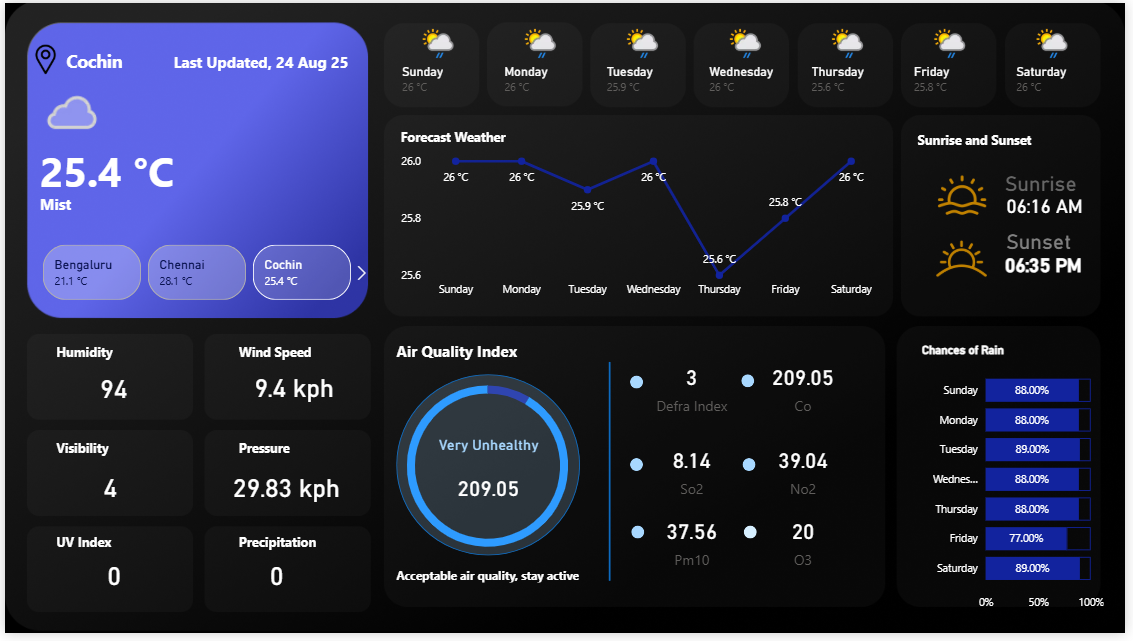

The dashboard page shown, as its layout file describes it:
{"tool":"powerbi","page":{"name":"Page 1","canvas":[1280,720],"ordinal":0},"visuals":[{"type":"donutChart","fields":{"Y":["_Measures.Left_value_Co","Sum(Current.current.air_quality.co)"]},"box":[431.9,403.7,240.5,250.3],"z":0},{"type":"shape","box":[447.1,424.3,210,207.1],"z":1000},{"type":"advancedSlicerVisual","fields":{"Values":["Locations.location.name"]},"box":[18.9,272.1,404.4,73.7],"z":2000},{"type":"shape","box":[39.7,130.4,215.4,122.8],"z":3000},{"type":"shape","box":[39.7,206,215.4,47.2],"z":4000},{"type":"shape","box":[69.9,47.2,215.4,37.8],"z":5000},{"type":"shape","box":[177.6,34,215.4,66.1],"z":6000},{"type":"image","box":[0,43.5,92.6,43.5],"z":7000},{"type":"cardVisual","fields":{"Data":["Min(Current.current.condition.icon)"]},"box":[15.1,68,109.6,88.8],"z":8000},{"type":"shape","box":[58.3,371.7,88.3,53.3],"z":9000},{"type":"shape","box":[266.7,371.7,108.3,53.3],"z":10000},{"type":"shape","box":[266.7,481.7,88.3,53.3],"z":11000},{"type":"shape","box":[266.7,588.3,126.7,53.3],"z":12000},{"type":"shape","box":[58.3,481.7,88.3,53.3],"z":13000},{"type":"shape","box":[58.3,588.3,88.3,53.3],"z":14000},{"type":"card","fields":{"Values":["Sum(Current.current.humidity)"]},"box":[75.9,390.2,97.5,100.3],"z":15000},{"type":"card","fields":{"Values":["_Measures.Wind_Speed"]},"box":[266.7,388.3,126.7,100],"z":16000},{"type":"card","fields":{"Values":["_Measures.Pressure"]},"box":[240,503.3,163.3,100],"z":17000},{"type":"card","fields":{"Values":["Sum(Current.current.precip_in)"]},"box":[261.7,603.3,98.3,100],"z":18000},{"type":"card","fields":{"Values":["Sum(Current.current.uv)"]},"box":[75,603.3,98.3,100],"z":19000},{"type":"card","fields":{"Values":["Sum(Current.current.vis_km)"]},"box":[71.7,503.3,98.3,100],"z":20000},{"type":"advancedSlicerVisual","fields":{"Values":["Forecast.Day_Name"]},"box":[435,16.7,826.7,101.7],"z":21000},{"type":"lineChart","title":"Forecast Weather ","fields":{"Y":["Sum(Forecast.forecast.forecastday.day.avgtemp_c)"],"Category":["Forecast.Day_Name"]},"box":[446.6,143.4,555.3,202.7],"z":22000},{"type":"shape","box":[1043.2,130.1,161.2,52.8],"z":23000},{"type":"shape","box":[1144.8,205.9,117.9,52.8],"z":24000},{"type":"shape","box":[1143.4,272.3,117.9,52.8],"z":25000},{"type":"shape","box":[1143.4,180.2,117.9,52.8],"z":26000},{"type":"shape","box":[1144.8,245.2,117.9,52.8],"z":27000},{"type":"hundredPercentStackedBarChart","title":"Chances of Rain","fields":{"Category":["Forecast.Day_Name"],"Y":["Sum(Forecast.forecast.forecastday.day.daily_chance_of_rain)","_Measures.Left_Value_Rain"]},"box":[1043.2,388.8,218.1,314.3],"z":28000},{"type":"shape","box":[447.1,371.2,161.2,52.8],"z":29000},{"type":"card","fields":{"Values":["Sum(Current.current.air_quality.co)"]},"box":[848.1,388.8,127.4,100.3],"z":30000},{"type":"card","fields":{"Values":["Sum(Current.current.air_quality.no2)"]},"box":[848.1,482.3,127.4,100.3],"z":31000},{"type":"card","fields":{"Values":["Sum(Current.current.air_quality.o3)"]},"box":[848.1,564.9,127.4,100.3],"z":32000},{"type":"card","fields":{"Values":["Sum(Current.current.air_quality.gb-defra-index)"]},"box":[720.7,388.8,127.4,100.3],"z":33000},{"type":"card","fields":{"Values":["Sum(Current.current.air_quality.so2)"]},"box":[720.7,482.3,127.4,100.3],"z":34000},{"type":"card","fields":{"Values":["Sum(Current.current.air_quality.pm10)"]},"box":[720.7,564.9,127.4,100.3],"z":35000},{"type":"shape","box":[714,425.4,15,15],"z":36000},{"type":"shape","box":[714,520.2,14.9,14.9],"z":37000},{"type":"shape","box":[715.3,597.5,14.9,14.9],"z":38000},{"type":"shape","box":[841.3,424,14.9,14.9],"z":39000},{"type":"shape","box":[842.7,520.2,14.9,14.9],"z":40000},{"type":"shape","box":[844,597.5,14.9,14.9],"z":41000},{"type":"card","fields":{"Values":["Sum(Current.current.air_quality.co)"]},"box":[490,494.3,125.7,101.4],"z":42000},{"type":"shape","box":[447.1,627.3,237.1,52.8],"z":43000},{"type":"image","box":[1060.8,187,65,65],"z":44000},{"type":"image","box":[1050,245.2,86.7,92.1],"z":45000},{"type":"shape","box":[566.3,410.5,250.6,250.6],"z":47000}]}

Visuals, with their boxes in screenshot pixels (x1, y1, x2, y2), scaled from the page's 1280x720 canvas onto the 1133x641 screenshot:
donutChart - _Measures.Left_value_Co x Sum(Current.current.air_quality.co): {"left": 382, "top": 359, "right": 595, "bottom": 582}
shape: {"left": 396, "top": 378, "right": 582, "bottom": 562}
advancedSlicerVisual - Locations.location.name: {"left": 17, "top": 242, "right": 375, "bottom": 308}
shape: {"left": 35, "top": 116, "right": 226, "bottom": 225}
shape: {"left": 35, "top": 183, "right": 226, "bottom": 225}
shape: {"left": 62, "top": 42, "right": 253, "bottom": 76}
shape: {"left": 157, "top": 30, "right": 348, "bottom": 89}
image: {"left": 0, "top": 39, "right": 82, "bottom": 77}
cardVisual - Min(Current.current.condition.icon): {"left": 13, "top": 61, "right": 110, "bottom": 140}
shape: {"left": 52, "top": 331, "right": 130, "bottom": 378}
shape: {"left": 236, "top": 331, "right": 332, "bottom": 378}
shape: {"left": 236, "top": 429, "right": 314, "bottom": 476}
shape: {"left": 236, "top": 524, "right": 348, "bottom": 571}
shape: {"left": 52, "top": 429, "right": 130, "bottom": 476}
shape: {"left": 52, "top": 524, "right": 130, "bottom": 571}
card - Sum(Current.current.humidity): {"left": 67, "top": 347, "right": 153, "bottom": 437}
card - _Measures.Wind_Speed: {"left": 236, "top": 346, "right": 348, "bottom": 435}
card - _Measures.Pressure: {"left": 212, "top": 448, "right": 357, "bottom": 537}
card - Sum(Current.current.precip_in): {"left": 232, "top": 537, "right": 319, "bottom": 626}
card - Sum(Current.current.uv): {"left": 66, "top": 537, "right": 153, "bottom": 626}
card - Sum(Current.current.vis_km): {"left": 63, "top": 448, "right": 150, "bottom": 537}
advancedSlicerVisual - Forecast.Day_Name: {"left": 385, "top": 15, "right": 1117, "bottom": 105}
"Forecast Weather " lineChart: {"left": 395, "top": 128, "right": 887, "bottom": 308}
shape: {"left": 923, "top": 116, "right": 1066, "bottom": 163}
shape: {"left": 1013, "top": 183, "right": 1118, "bottom": 230}
shape: {"left": 1012, "top": 242, "right": 1116, "bottom": 289}
shape: {"left": 1012, "top": 160, "right": 1116, "bottom": 207}
shape: {"left": 1013, "top": 218, "right": 1118, "bottom": 265}
"Chances of Rain" hundredPercentStackedBarChart: {"left": 923, "top": 346, "right": 1116, "bottom": 626}
shape: {"left": 396, "top": 330, "right": 538, "bottom": 377}
card - Sum(Current.current.air_quality.co): {"left": 751, "top": 346, "right": 863, "bottom": 435}
card - Sum(Current.current.air_quality.no2): {"left": 751, "top": 429, "right": 863, "bottom": 519}
card - Sum(Current.current.air_quality.o3): {"left": 751, "top": 503, "right": 863, "bottom": 592}
card - Sum(Current.current.air_quality.gb-defra-index): {"left": 638, "top": 346, "right": 751, "bottom": 435}
card - Sum(Current.current.air_quality.so2): {"left": 638, "top": 429, "right": 751, "bottom": 519}
card - Sum(Current.current.air_quality.pm10): {"left": 638, "top": 503, "right": 751, "bottom": 592}
shape: {"left": 632, "top": 379, "right": 645, "bottom": 392}
shape: {"left": 632, "top": 463, "right": 645, "bottom": 476}
shape: {"left": 633, "top": 532, "right": 646, "bottom": 545}
shape: {"left": 745, "top": 377, "right": 758, "bottom": 391}
shape: {"left": 746, "top": 463, "right": 759, "bottom": 476}
shape: {"left": 747, "top": 532, "right": 760, "bottom": 545}
card - Sum(Current.current.air_quality.co): {"left": 434, "top": 440, "right": 545, "bottom": 530}
shape: {"left": 396, "top": 558, "right": 606, "bottom": 605}
image: {"left": 939, "top": 166, "right": 997, "bottom": 224}
image: {"left": 929, "top": 218, "right": 1006, "bottom": 300}
shape: {"left": 501, "top": 365, "right": 723, "bottom": 589}
